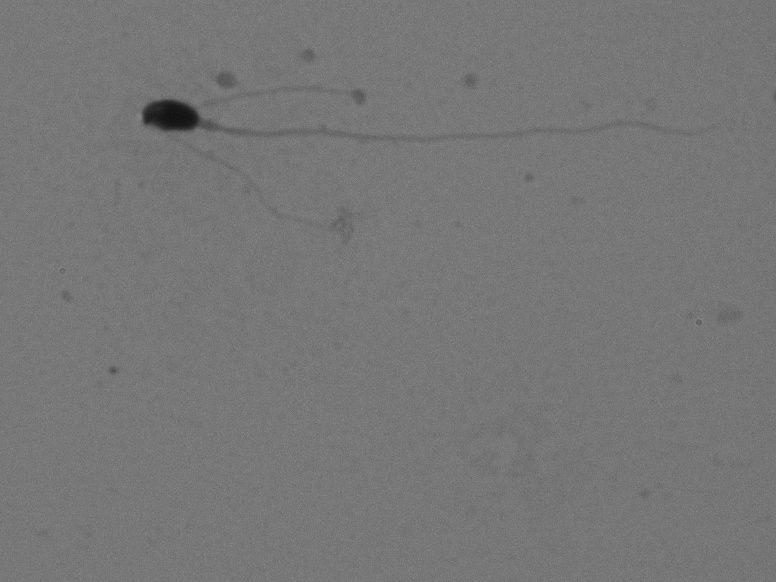Abnormal: (113, 76, 747, 190)
